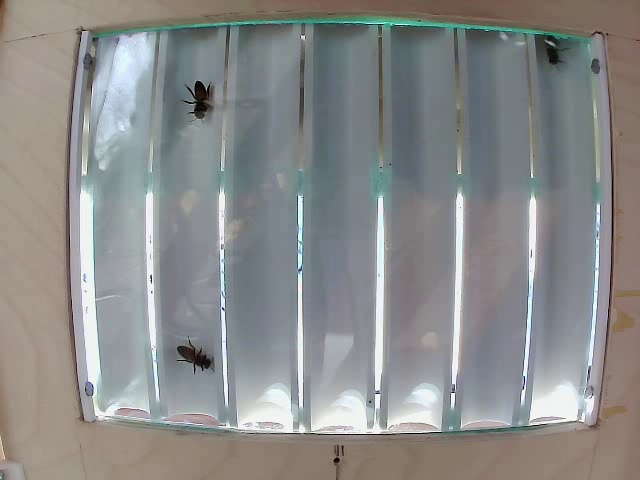bee: (186, 76, 224, 130), (168, 333, 210, 369)
